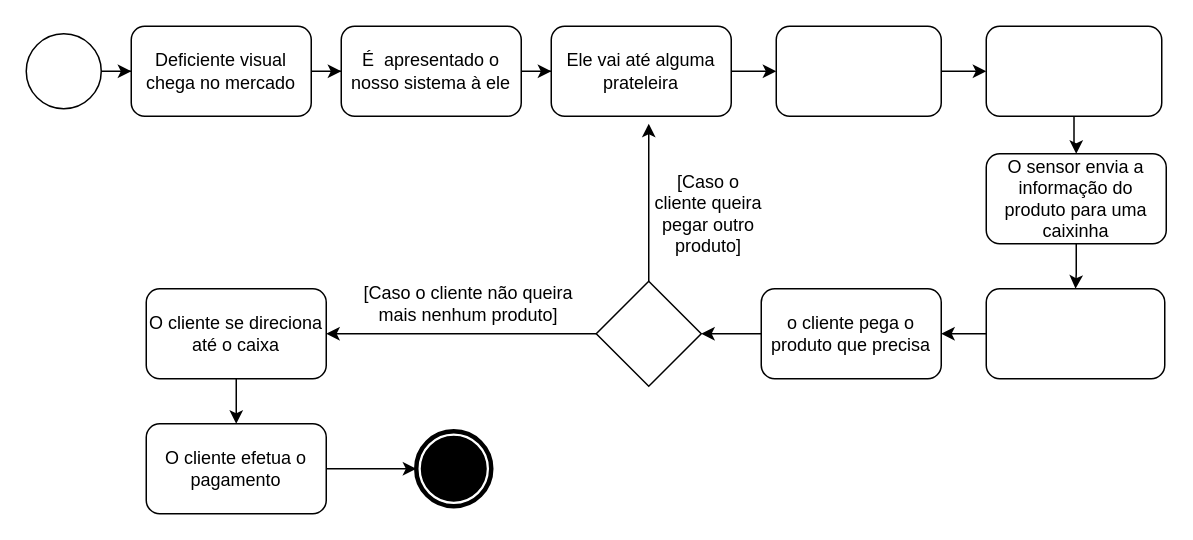
Image size: 1193x540. Some labels were removed from this diagram. The shapes that lost their labels are listed below. From the top down, each one's centre as x and y in pixels, then its label:
At pixel 858 70: "Passa a mão embaixo da prateleira".
At pixel 1073 70: "O sensor detecta proximidade de algo".
At pixel 1075 333: "O produto,preço é informado".
